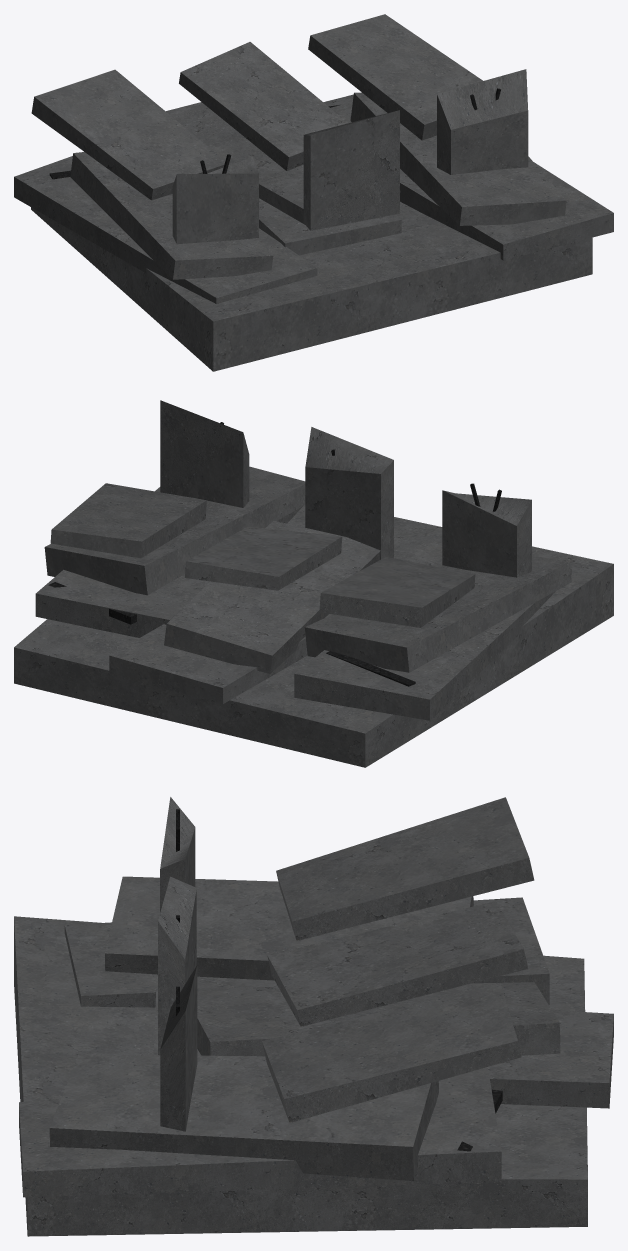
The model's file is city-tower.glb.
The picture shows the model from 3 angles, top to bottom: view 1: azimuth 30°, elevation 25°; view 2: azimuth 150°, elevation 25°; view 3: azimuth 270°, elevation 25°; orthographic projection. The views are drawn at different scales.
Visible parts, largest first — view 1: city-tower-concrete; view 2: city-tower-concrete, city-tower-steel; view 3: city-tower-concrete, city-tower-steel.
Part boxes in pixels (<box>): city-tower-concrete: <box>14,14,613,371</box>; city-tower-concrete: <box>14,400,613,767</box>; city-tower-steel: <box>48,422,501,686</box>; city-tower-concrete: <box>14,797,613,1236</box>; city-tower-steel: <box>176,809,502,1151</box>.
Bounding box in the file's own units: 7.18 × 2.71 × 6.67.
Materials: 2 (2 with a texture image).
